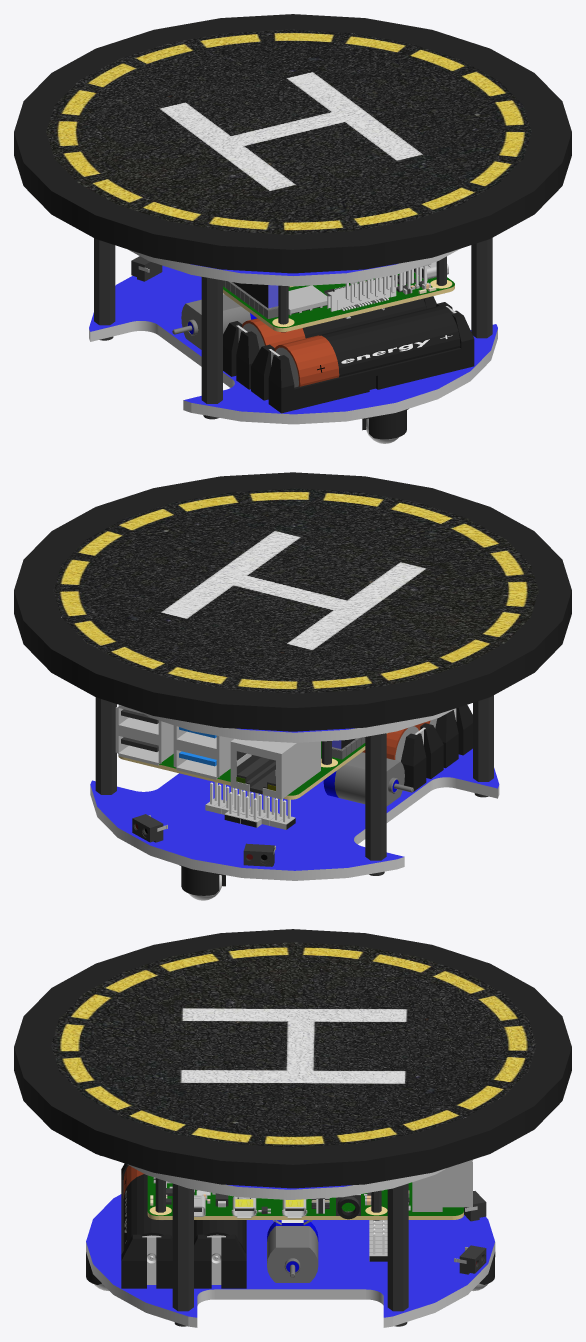
Rendered from body.obj.
3 views of the same model, one above another, from view 1: azimuth 30°, elevation 25°; view 2: azimuth 150°, elevation 25°; view 3: azimuth 270°, elevation 25° (orthographic).
Parts seen in each view (by area): view 1: Geom3D.172, Geom3D.167, Geom3D1.089, Geom3D.193, Geom3D1.074, Geom3D.123, Geom3D_topplate, Geom3D.211, Geom3D.212, Geom3D.153, Geom3D.173, Geom3D.191 (+8 smaller); view 2: Geom3D.172, Geom3D.167, Geom3D1.089, Geom3D.123, Geom3D.265, Geom3D_topplate, Geom3D.191, Geom3D.169, Geom3D.174, Geom3D.173, Geom3D.168, Geom3D.166 (+9 smaller); view 3: Geom3D.172, Geom3D.167, Geom3D1.089, Geom3D.123, Geom3D_topplate, Geom3D.091, Geom3D.166, Geom3D.212, Geom3D.193, Geom3D_PCB, Geom3D.169, Geom3D.173 (+6 smaller).
Boxes of the visible parts, <box> form: Geom3D.172: <box>46,29,531,234</box>; Geom3D.167: <box>14,14,571,273</box>; Geom3D1.089: <box>89,265,497,414</box>; Geom3D.193: <box>251,302,474,413</box>; Geom3D1.074: <box>319,305,460,377</box>; Geom3D.123: <box>89,321,497,424</box>; Geom3D_topplate: <box>128,248,460,286</box>; Geom3D.211: <box>201,277,222,403</box>; Geom3D.212: <box>471,238,492,338</box>; Geom3D.153: <box>274,335,339,386</box>; Geom3D.173: <box>223,296,436,389</box>; Geom3D.191: <box>94,238,115,325</box>; Geom3D.172: <box>53,488,538,693</box>; Geom3D.167: <box>14,472,571,731</box>; Geom3D1.089: <box>90,748,499,870</box>; Geom3D.123: <box>90,777,499,880</box>; Geom3D.265: <box>230,738,320,799</box>; Geom3D_topplate: <box>139,708,455,742</box>; Geom3D.191: <box>365,733,386,860</box>; Geom3D.169: <box>115,705,173,765</box>; Geom3D.174: <box>173,725,233,779</box>; Geom3D.173: <box>401,723,443,791</box>; Geom3D.168: <box>334,752,413,806</box>; Geom3D.166: <box>95,697,116,794</box>; Geom3D.172: <box>51,942,536,1147</box>; Geom3D.167: <box>14,929,571,1188</box>; Geom3D1.089: <box>86,1194,494,1317</box>; Geom3D.123: <box>86,1242,495,1327</box>; Geom3D_topplate: <box>127,1164,446,1199</box>; Geom3D.091: <box>267,1220,318,1282</box>; Geom3D.166: <box>387,1183,408,1311</box>; Geom3D.212: <box>172,1183,193,1311</box>; Geom3D.193: <box>121,1163,172,1288</box>; Geom3D_PCB: <box>147,1175,463,1215</box>; Geom3D.169: <box>412,1159,472,1211</box>; Geom3D.173: <box>194,1220,246,1288</box>.
Bounding box in the file's own units: 0.15 × 0.0721 × 0.15.
